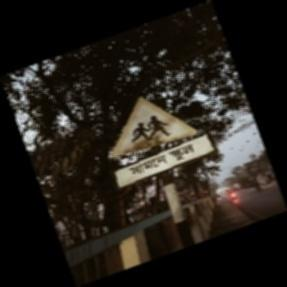School-in-front: (108, 94, 214, 192)
